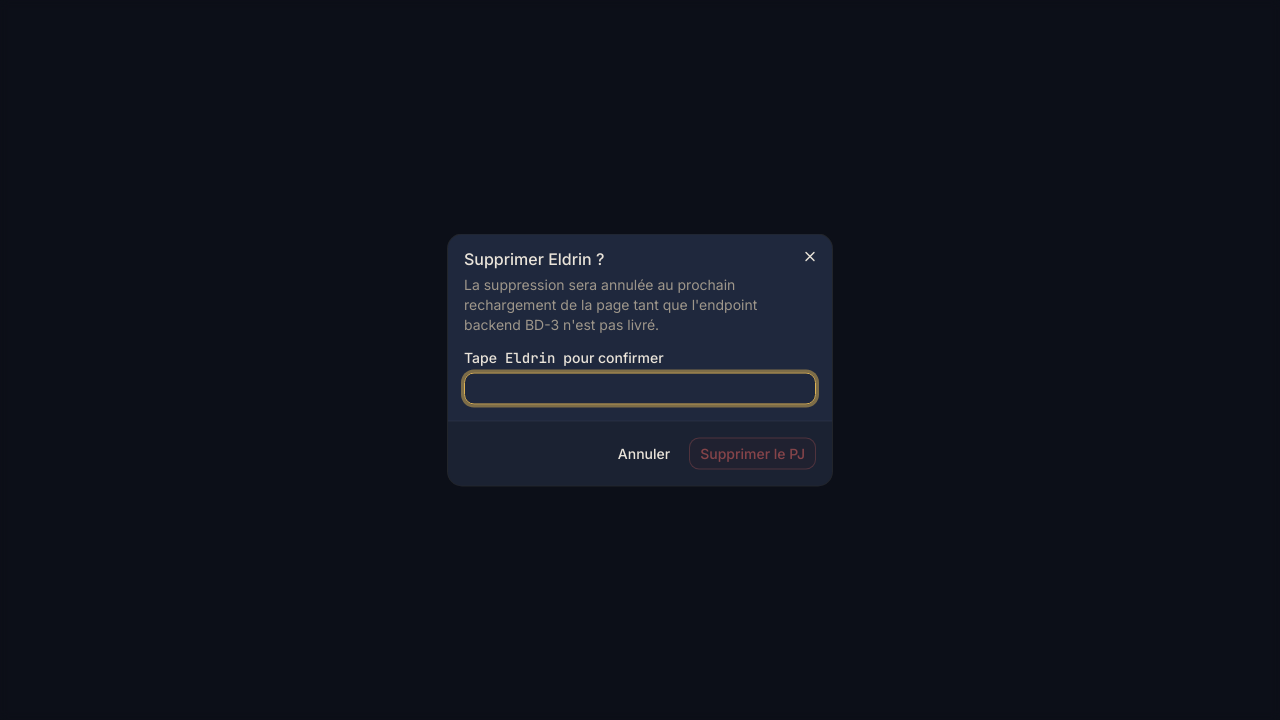
Test: <PjDeleteConfirm> › trims surrounding whitespace before comparing the typed name
Type "  Eldrin  " into the field labelled "Tape Eldrin pour confirmer".
click(640, 388); type("  Eldrin  ")  # box [464,372,816,404]
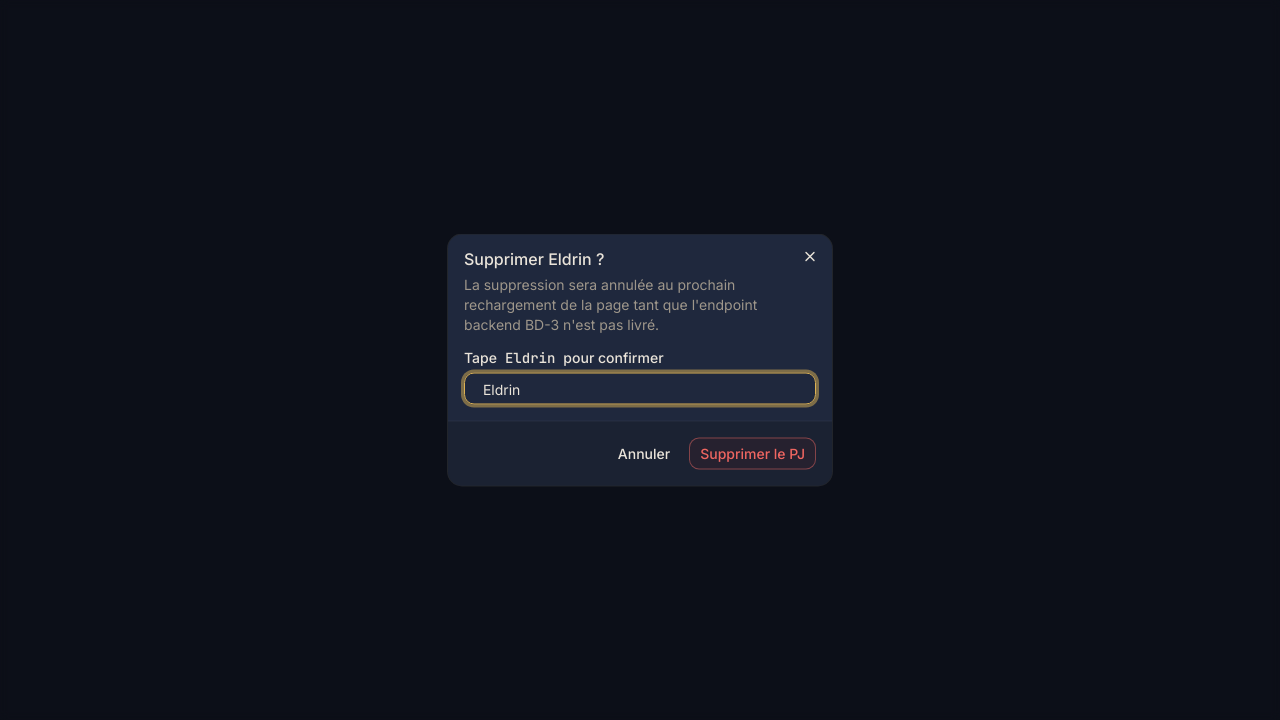
Expected: the button "Supprimer le PJ" is enabled, [689,438,816,470]
